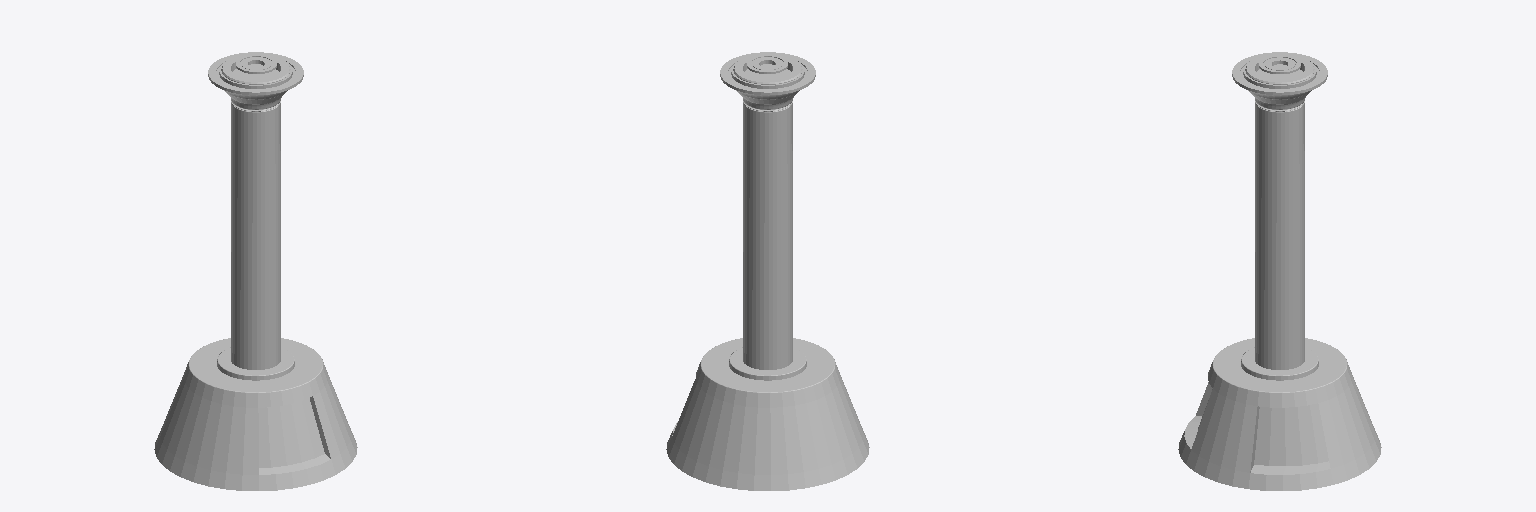
The model's file is proc-head1.obj.
3 renders of one model, left to right at view 1: azimuth 30°, elevation 25°; view 2: azimuth 150°, elevation 25°; view 3: azimuth 270°, elevation 25°, orthographic.
Visible parts, largest first — view 1: 圆柱, 圆柱.1; view 2: 圆柱, 圆柱.1; view 3: 圆柱, 圆柱.1.
Part boxes in pixels (bbox=[...]): 圆柱: bbox=[154, 52, 357, 490]; 圆柱.1: bbox=[236, 54, 276, 73]; 圆柱: bbox=[666, 52, 869, 490]; 圆柱.1: bbox=[747, 54, 787, 73]; 圆柱: bbox=[1178, 52, 1381, 490]; 圆柱.1: bbox=[1259, 55, 1300, 73].
Size of the model in its own units: 115 by 240 by 115.